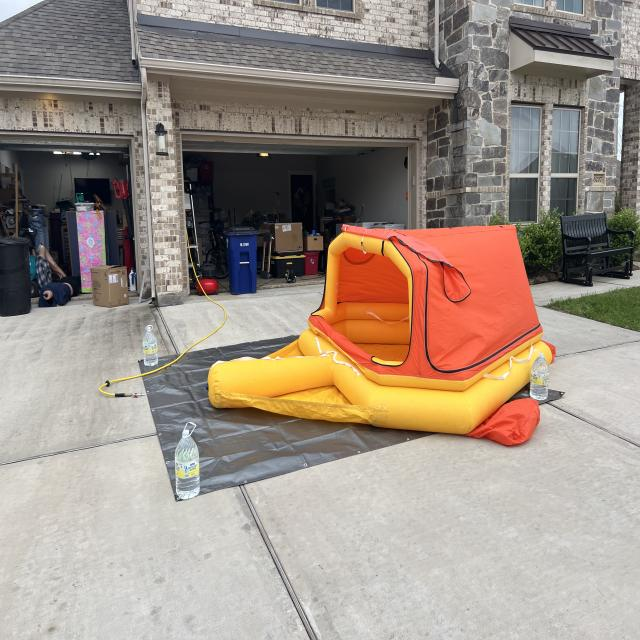Multi-person_life_raft: (207, 225, 557, 447)
